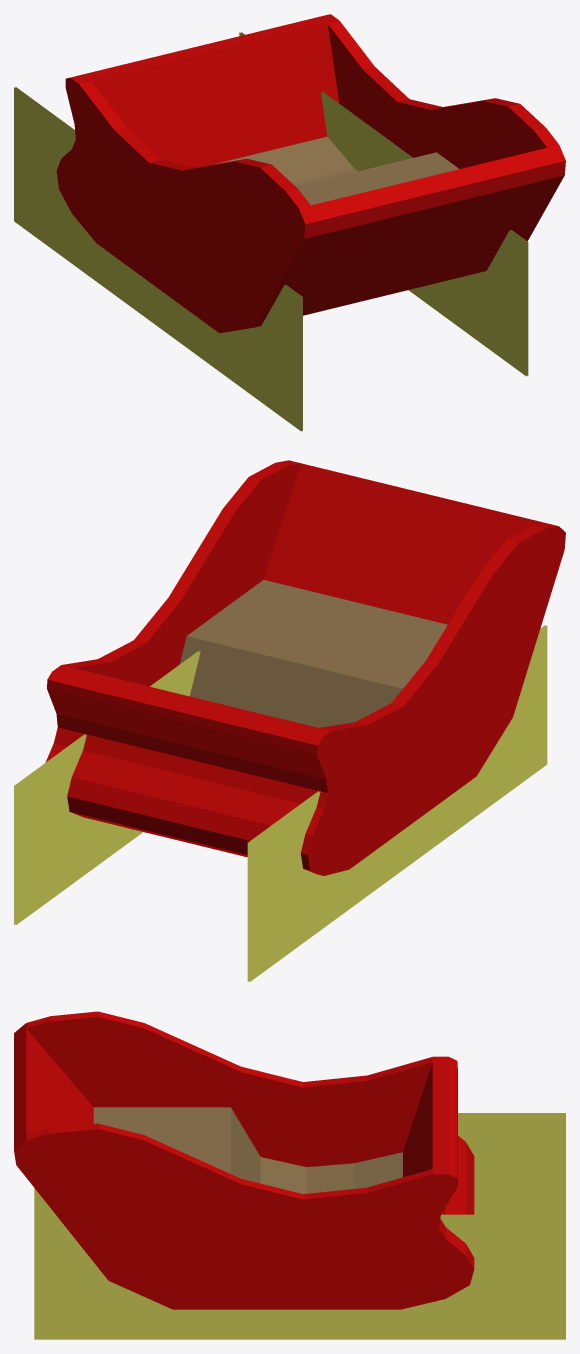
Rendered from Sliegh.fbx.
3 views of the same model, one above another, from view 1: azimuth 30°, elevation 25°; view 2: azimuth 150°, elevation 25°; view 3: azimuth 270°, elevation 25° (orthographic). The views are drawn at different scales.
Visible parts, largest first — view 1: pSliegh4; view 2: pSliegh4; view 3: pSliegh4.
Part boxes in pixels (x1=…): pSliegh4: x1=14, y1=14, x2=565, y2=431; pSliegh4: x1=14, y1=460, x2=565, y2=982; pSliegh4: x1=14, y1=1011, x2=565, y2=1339.
Size of the model in its own units: 9.31 by 8.22 by 18.48.
